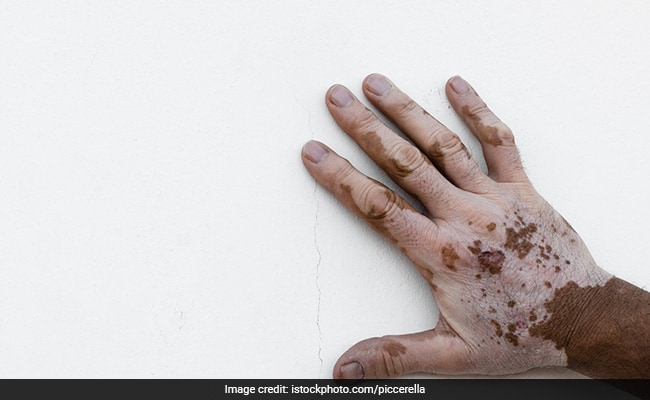Diseased: (315, 75, 579, 370)
